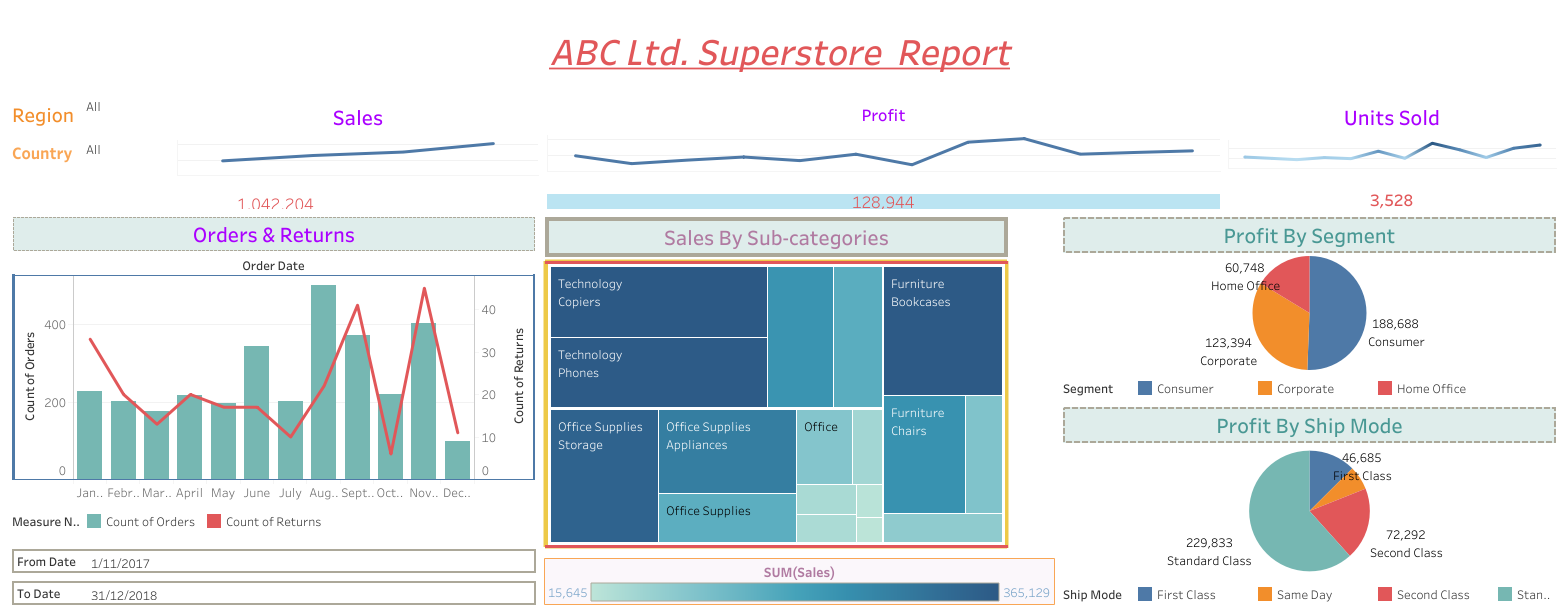

The page's visual inventory and layout, read from the dashboard file:
{"tool":"tableau","page":{"name":"Dashboard 1","canvas":[1000,1000],"units":"permille","ordinal":0},"visuals":[{"type":"text","box":[7.8,12.4,984.4,138.6]},{"type":"filter","title":"Sales ","param":"[federated.1nvtnpq03c9ls014ievi20gbuj56].[none:Region:nk]","box":[7.8,151,104.5,69.3]},{"type":"worksheet","title":"Sales ","mark":"Automatic","rows":["Sales"],"cols":["Order Date"],"box":[112.4,151,235.1,138.7]},{"type":"worksheet","title":"Profit","mark":"Automatic","rows":["Profit"],"cols":["Order Date"],"box":[347.4,151,431.6,127.3]},{"type":"worksheet","title":"Units Sold ","mark":"Automatic","rows":["Quantity"],"cols":["Order Date"],"box":[779.1,151,213.1,128.2]},{"type":"filter","title":"Sales ","param":"[federated.1nvtnpq03c9ls014ievi20gbuj56].[none:Country:nk]","box":[7.8,220.4,104.5,53]},{"type":"worksheet","title":"Profit KPI","mark":"Automatic","box":[347.4,278.4,431.6,66.5]},{"type":"worksheet","title":" Units Sold KPI","mark":"Automatic","box":[779.1,279.2,213.1,65.7]},{"type":"worksheet","title":"Sales KPI","mark":"Automatic","box":[7.8,289.7,339.6,55.2]},{"type":"worksheet","title":"Orders & Returns","mark":"Automatic","rows":["Orders_D7476F9D7E844E10AF84D821C77D065F","Returns_76BD3CE813D2446DB2A0E9E2493B3B1B"],"cols":["Order Date"],"box":[7.8,344.9,337.4,484.3]},{"type":"worksheet","title":"Sales By Sub-categories","mark":"Automatic","box":[345.2,344.9,329,553]},{"type":"worksheet","title":"Profit By Segment","mark":"Pie","box":[674.2,344.9,318,260.9]},{"type":"legend","title":"Profit By Segment","param":"[federated.1nvtnpq03c9ls014ievi20gbuj56].[none:Segment:nk]","box":[674.2,605.8,318,47.7]},{"type":"worksheet","title":"Profit By Ship Mode ","mark":"Pie","box":[674.2,653.5,318,286.3]},{"type":"legend","title":"Orders & Returns","param":"[federated.1nvtnpq03c9ls014ievi20gbuj56].[:Measure Names]","box":[7.8,829.2,337.4,59]},{"type":"parameter","param":"[Parameters].[Parameter 1]","box":[7.8,888.2,337.4,49.7]},{"type":"legend","title":"Sales By Sub-categories","param":"[federated.1nvtnpq03c9ls014ievi20gbuj56].[sum:Sales:qk]","box":[345.2,897.9,329,89.7]},{"type":"parameter","param":"[Parameters].[Parameter 2]","box":[7.8,937.9,337.4,49.7]},{"type":"legend","title":"Profit By Ship Mode ","param":"[federated.1nvtnpq03c9ls014ievi20gbuj56].[none:Ship Mode:nk]","box":[674.2,939.8,318,47.8]}]}

Visuals, with their boxes on the dashboard's canvas, which has no fixed pixel size, in thousandths of its width and height (x1, y1, x2, y2). These are canvas units, not pixel positions in the 1567x616 screenshot, which may show the page scaled, cropped or inside an application window:
text: BBox(8, 12, 992, 151)
"Sales " filter: BBox(8, 151, 112, 220)
"Sales " worksheet: BBox(112, 151, 348, 290)
"Profit" worksheet: BBox(347, 151, 779, 278)
"Units Sold " worksheet: BBox(779, 151, 992, 279)
"Sales " filter: BBox(8, 220, 112, 273)
"Profit KPI" worksheet: BBox(347, 278, 779, 345)
" Units Sold KPI" worksheet: BBox(779, 279, 992, 345)
"Sales KPI" worksheet: BBox(8, 290, 347, 345)
"Orders & Returns" worksheet: BBox(8, 345, 345, 829)
"Sales By Sub-categories" worksheet: BBox(345, 345, 674, 898)
"Profit By Segment" worksheet (Pie marks): BBox(674, 345, 992, 606)
"Profit By Segment" legend: BBox(674, 606, 992, 654)
"Profit By Ship Mode " worksheet (Pie marks): BBox(674, 654, 992, 940)
"Orders & Returns" legend: BBox(8, 829, 345, 888)
parameter: BBox(8, 888, 345, 938)
"Sales By Sub-categories" legend: BBox(345, 898, 674, 988)
parameter: BBox(8, 938, 345, 988)
"Profit By Ship Mode " legend: BBox(674, 940, 992, 988)
